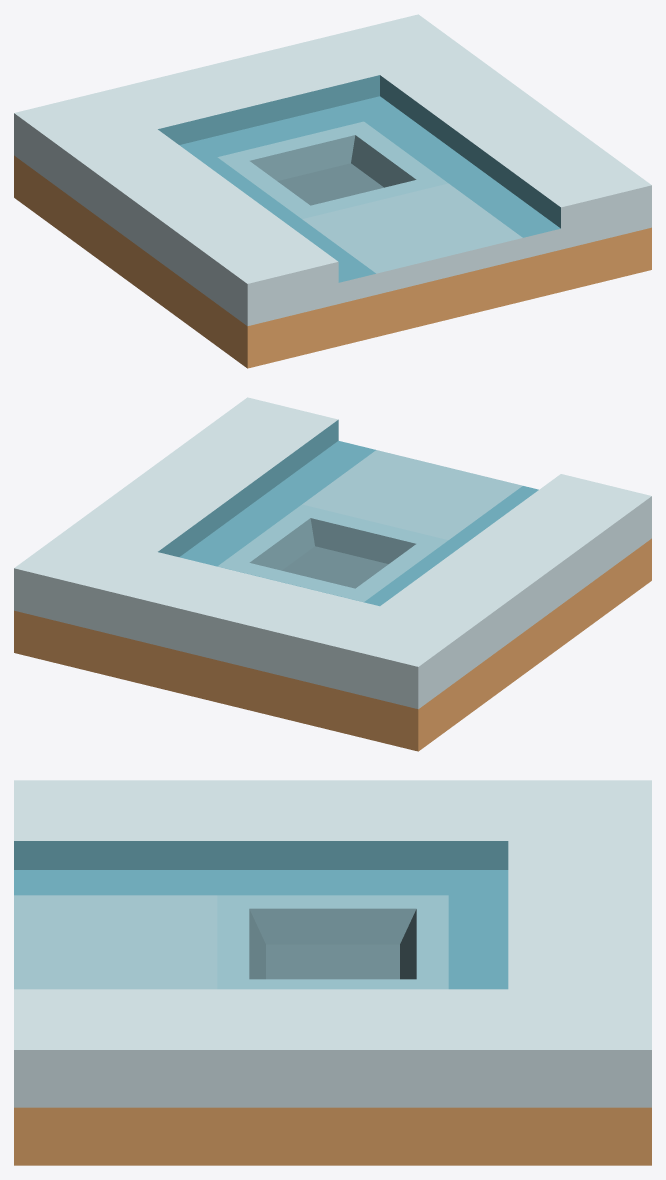
File: snow_tile_endSpawn.dae
3 renders of one model, top to bottom at view 1: azimuth 30°, elevation 25°; view 2: azimuth 150°, elevation 25°; view 3: azimuth 270°, elevation 25°, orthographic. The views are drawn at different scales.
Visible parts, largest first — view 1: snow_tile_endSpawn; view 2: snow_tile_endSpawn; view 3: snow_tile_endSpawn.
Boxes of the visible parts, box(x1,y1,x2,y2) form: snow_tile_endSpawn: box(14, 14, 651, 368); snow_tile_endSpawn: box(14, 397, 651, 751); snow_tile_endSpawn: box(14, 780, 651, 1165).
Bounding box in the file's own units: 1 × 0.2 × 1.
